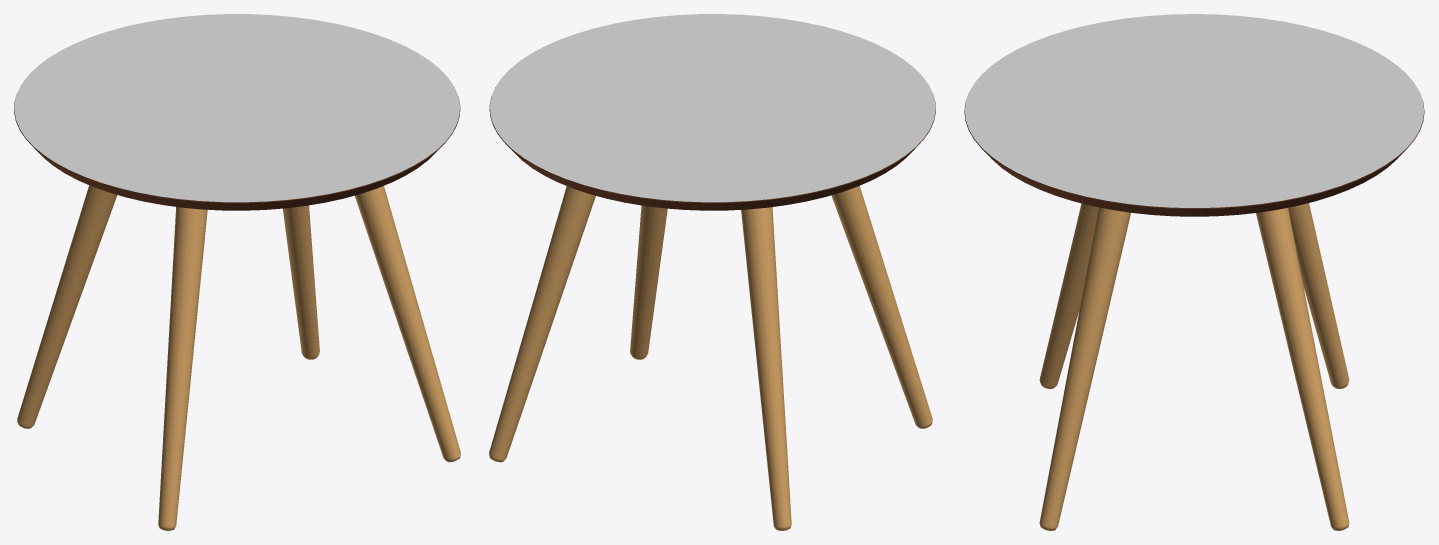
File: Table.fbx
3 views of the same model, side by side, from view 1: azimuth 30°, elevation 25°; view 2: azimuth 150°, elevation 25°; view 3: azimuth 270°, elevation 25° (orthographic). The views are drawn at different scales.
Parts seen in each view (by area): view 1: Table; view 2: Table; view 3: Table.
Boxes of the visible parts, left/top/right/bottom form: Table: left=14, top=14, right=460, bottom=530; Table: left=489, top=14, right=935, bottom=530; Table: left=964, top=14, right=1424, bottom=530.
Size of the model in its own units: 89.75 by 74.62 by 89.75.
